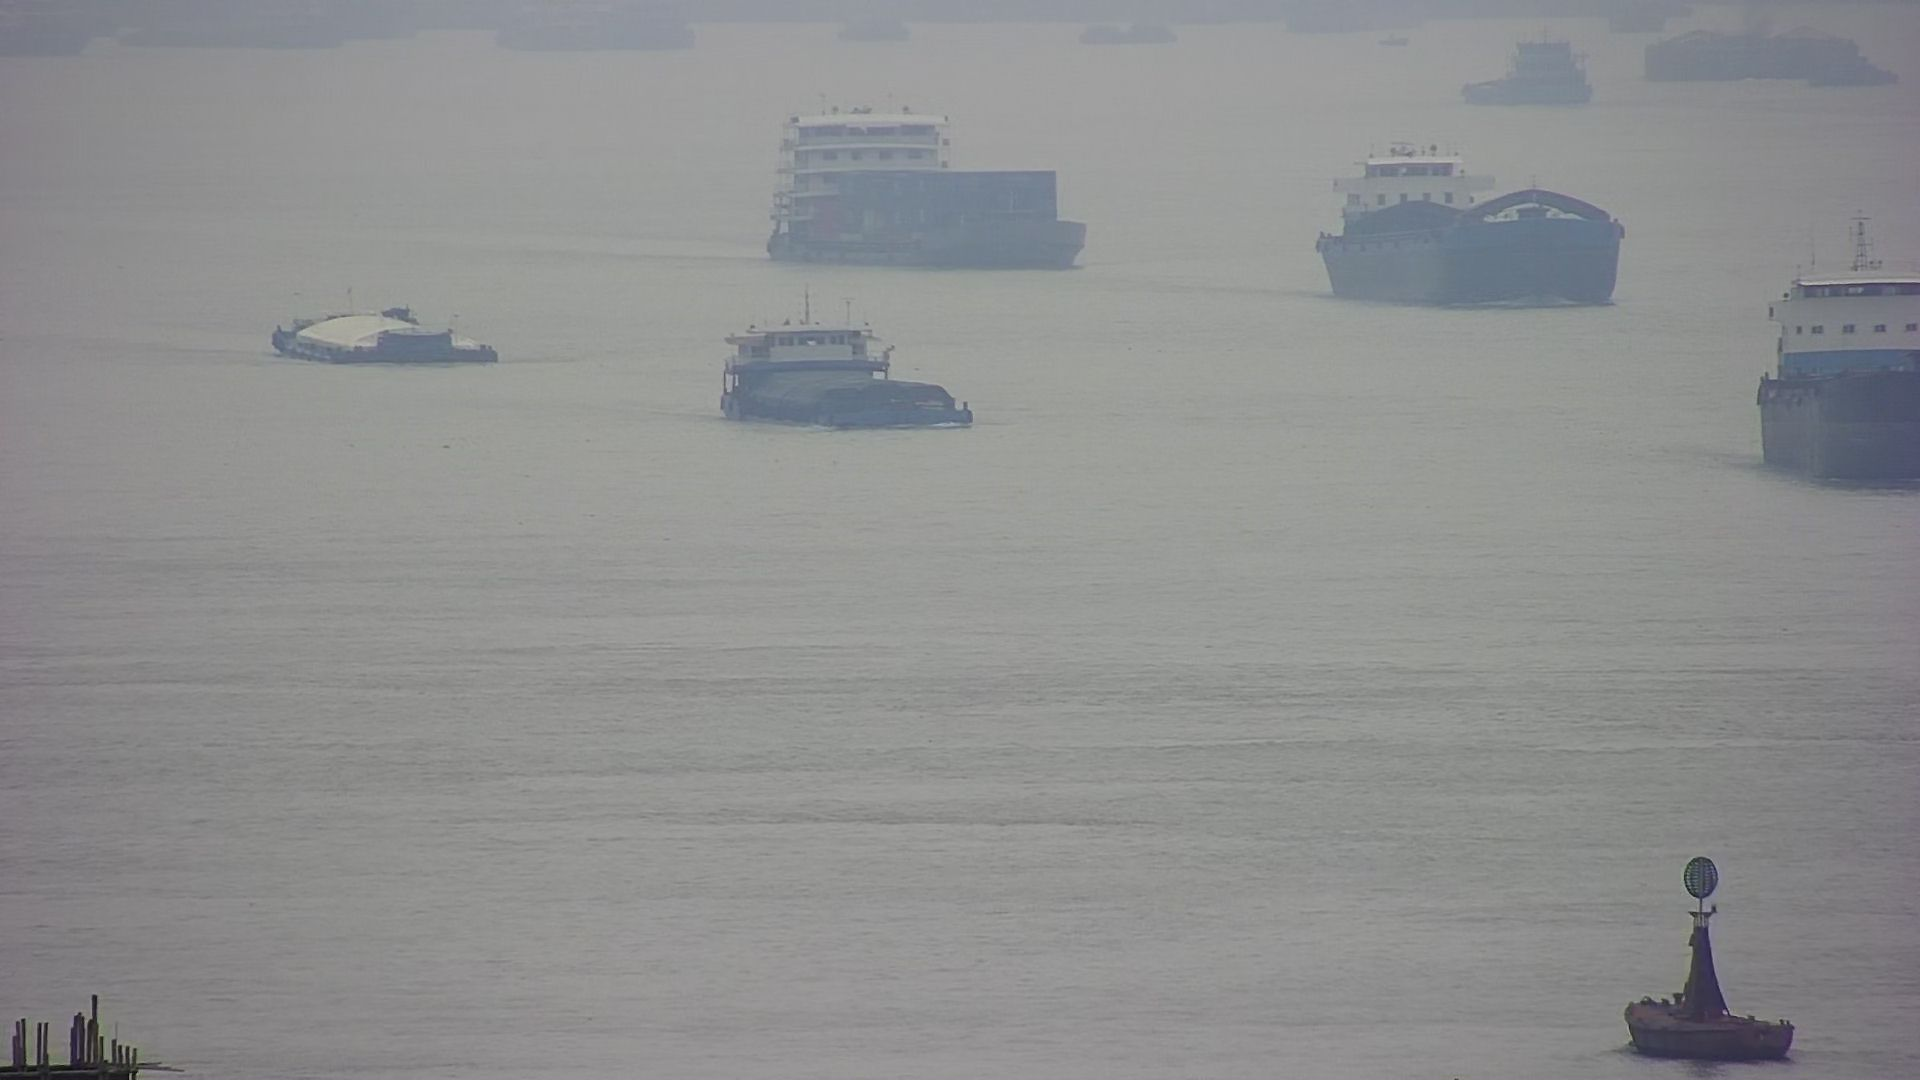boat: (1623, 856, 1795, 1056)
mast: (1, 990, 181, 1080)
ship: (1313, 150, 1625, 309), (769, 117, 1089, 269), (1759, 272, 1920, 489), (719, 305, 976, 429), (272, 310, 498, 363), (1458, 42, 1596, 104)
